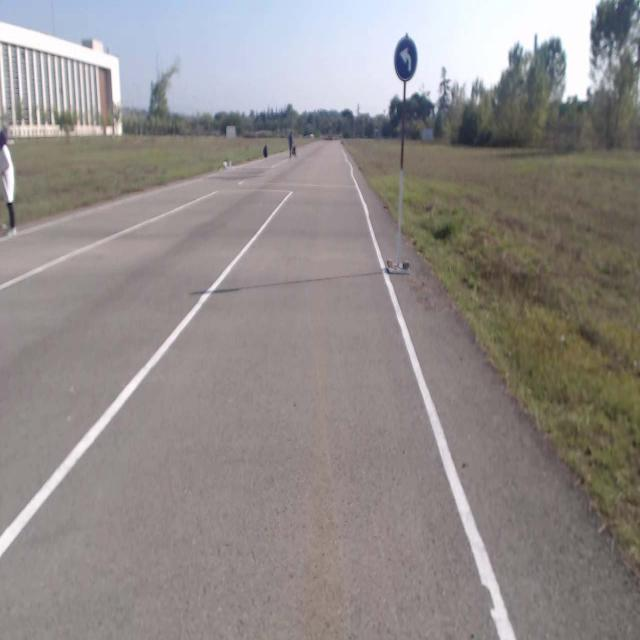sol: (394, 37, 418, 79)
